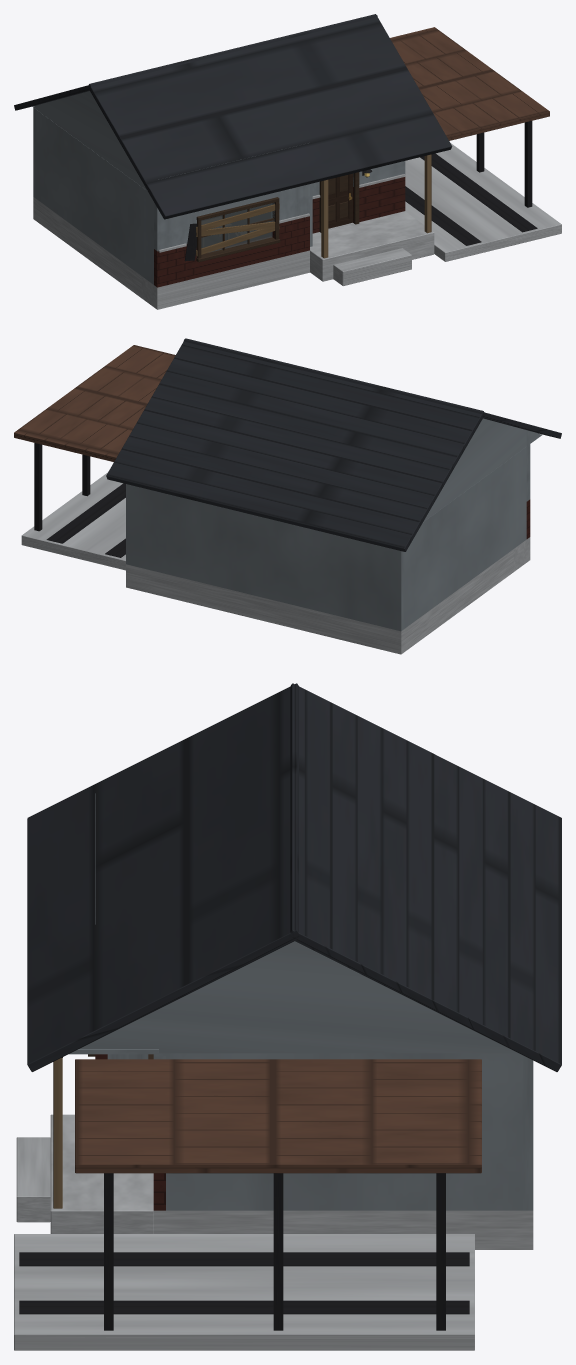
Rendered from House_C_Ranch.fbx.
The picture shows the model from 3 angles, top to bottom: view 1: azimuth 30°, elevation 25°; view 2: azimuth 150°, elevation 25°; view 3: azimuth 270°, elevation 25°; orthographic projection. The views are drawn at different scales.
Visible parts, largest first — view 1: House_C_Ranch_Exterior, House_C_Ranch_WindowBoards, House_C_Ranch_FrontDoor, House_C_Ranch_WindowGlass, House_C_Ranch_Interior; view 2: House_C_Ranch_Exterior; view 3: House_C_Ranch_Exterior.
Boxes of the visible parts, <box> form: House_C_Ranch_Exterior: <box>14,14,561,309</box>; House_C_Ranch_WindowBoards: <box>196,204,279,256</box>; House_C_Ranch_FrontDoor: <box>328,173,352,228</box>; House_C_Ranch_WindowGlass: <box>201,203,272,252</box>; House_C_Ranch_Interior: <box>201,203,270,247</box>; House_C_Ranch_Exterior: <box>14,338,561,654</box>; House_C_Ranch_Exterior: <box>14,683,561,1350</box>.
Bounding box in the file's own units: 59.8 × 26.81 × 40.4.
Materials: 2 (1 with a texture image).
